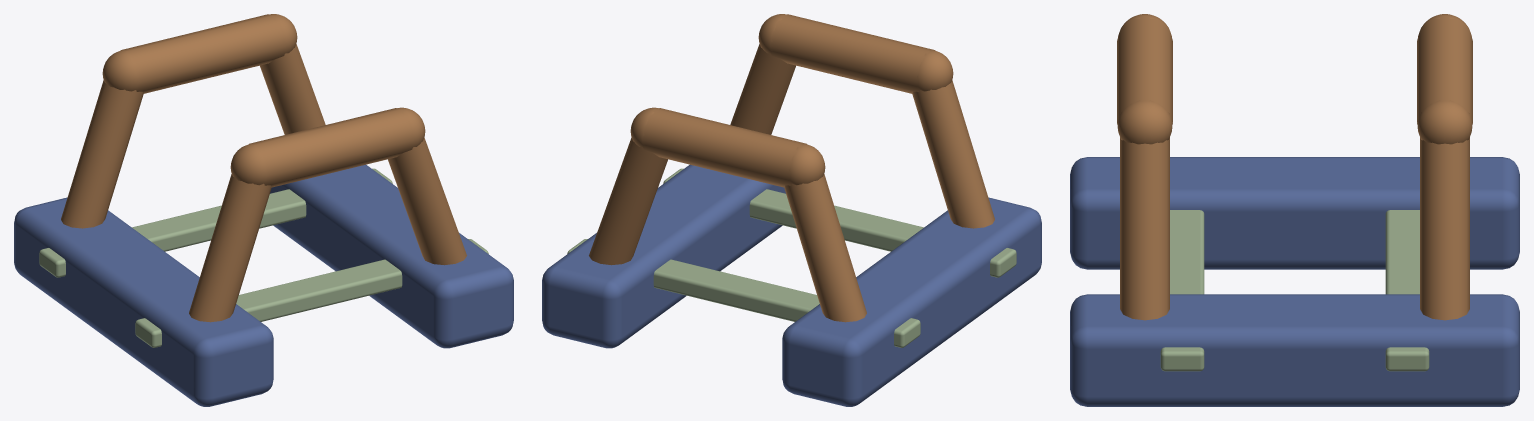
Rendered from desert-caravanserai-and-bazaar-pack-saddle-51b0229a__30454.glb.
3 renders of one model, left to right at view 1: azimuth 30°, elevation 25°; view 2: azimuth 150°, elevation 25°; view 3: azimuth 270°, elevation 25°, orthographic. The views are drawn at different scales.
Visible parts, largest first — view 1: pack-saddle; view 2: pack-saddle; view 3: pack-saddle.
Part boxes in pixels (x1,y1,x2,y2): pack-saddle: [14, 14, 513, 406]; pack-saddle: [542, 14, 1041, 406]; pack-saddle: [1070, 14, 1519, 406].
Bounding box in the file's own units: 0.73 × 0.465 × 0.72.
